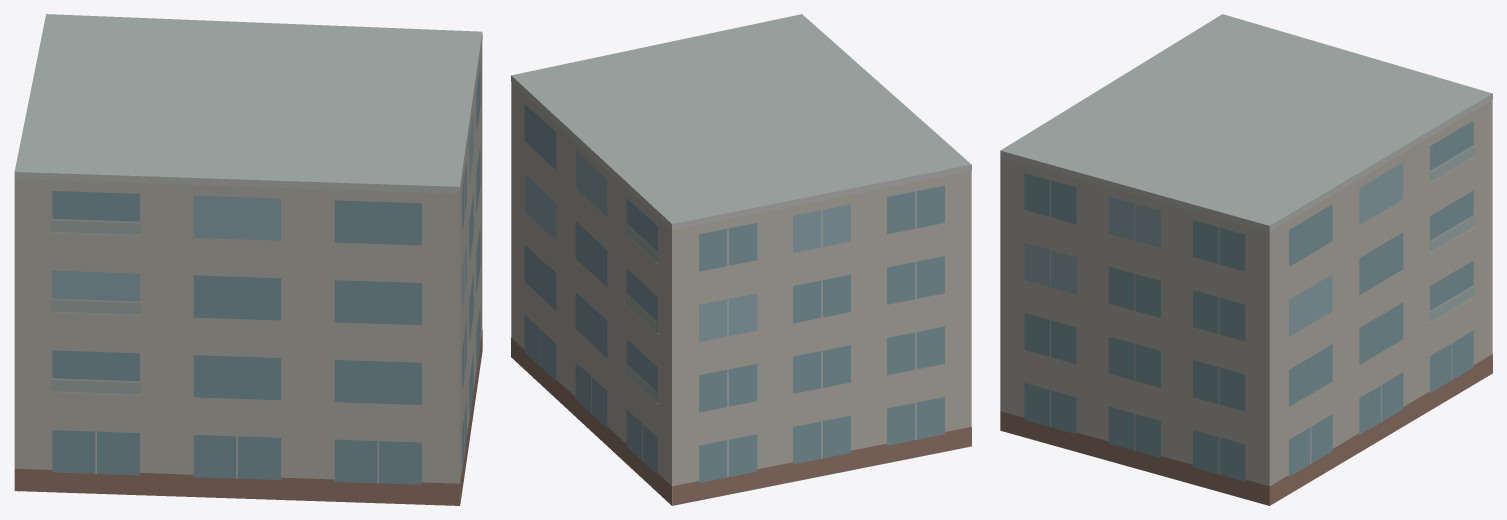
File: survey-upis-32850771.glb
The picture shows the model from 3 angles, left to right: view 1: azimuth 30°, elevation 25°; view 2: azimuth 150°, elevation 25°; view 3: azimuth 270°, elevation 25°; orthographic projection. The views are drawn at different scales.
Visible parts, largest first — view 1: survey-upis-32850771.tmp; view 2: survey-upis-32850771.tmp; view 3: survey-upis-32850771.tmp.
Part boxes in pixels (box(x1,y1,x2,y2)): survey-upis-32850771.tmp: box(14, 14, 482, 505); survey-upis-32850771.tmp: box(511, 14, 971, 505); survey-upis-32850771.tmp: box(1000, 14, 1492, 505).
Size of the model in its own units: 17.86 by 11 by 17.54.
